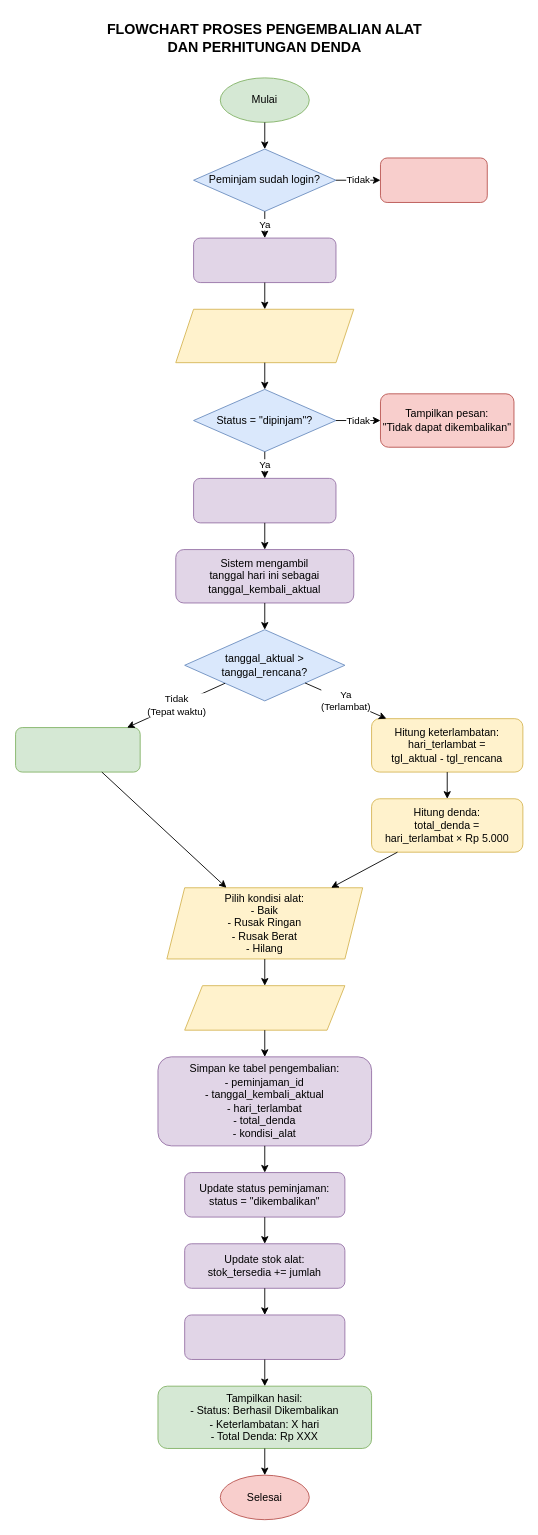
This 538x1535 diagram has some shape labels left out. The shapes that lost their labels are listed below. From the top down, each one's box as (x1, y1, x2, y2) in pixels, then its label:
(380, 157, 487, 202): Redirect ke login
(193, 237, 336, 283): Buka halaman "Peminjaman Saya"
(175, 308, 354, 363): Pilih peminjaman yang ingin dikembalikan
(193, 477, 336, 523): Klik tombol "Kembalikan Alat"
(15, 727, 140, 772): hari_terlambat = 0 total_denda = Rp 0
(184, 985, 345, 1030): Input catatan pengembalian (opsional)
(184, 1314, 345, 1359): Catat ke log_aktivitas: "Pengembalian alat"
